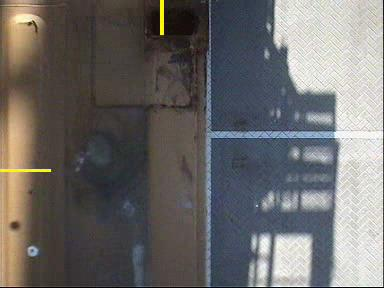groundmarker_2: (181, 167, 223, 223)
